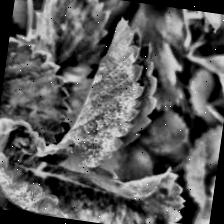Powdery Mildew Leaf: (39, 8, 168, 184), (0, 116, 196, 224)
